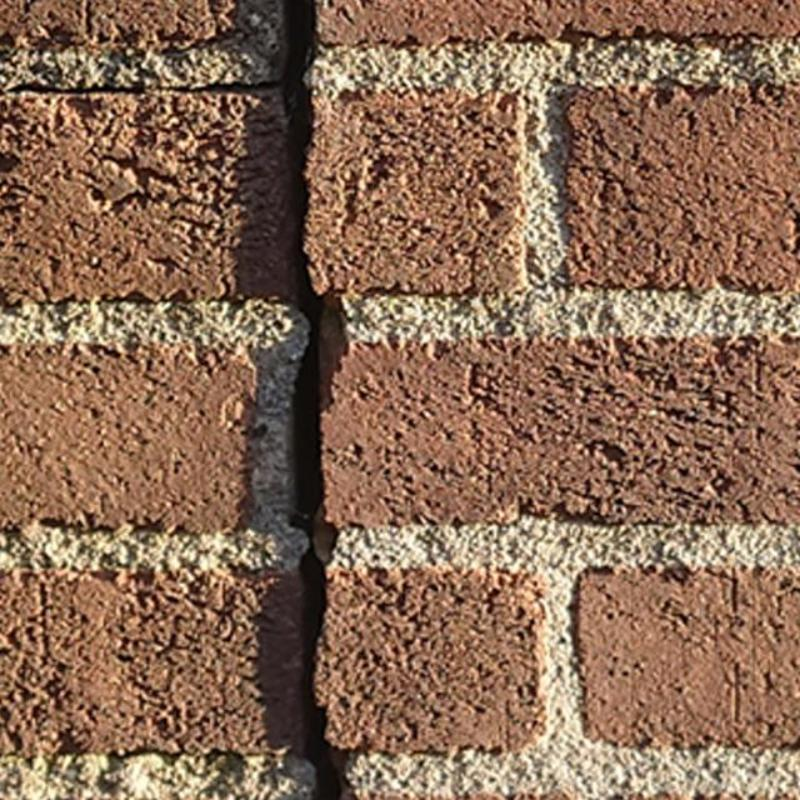pothole: (255, 0, 322, 538), (291, 548, 341, 799), (0, 78, 279, 96)
